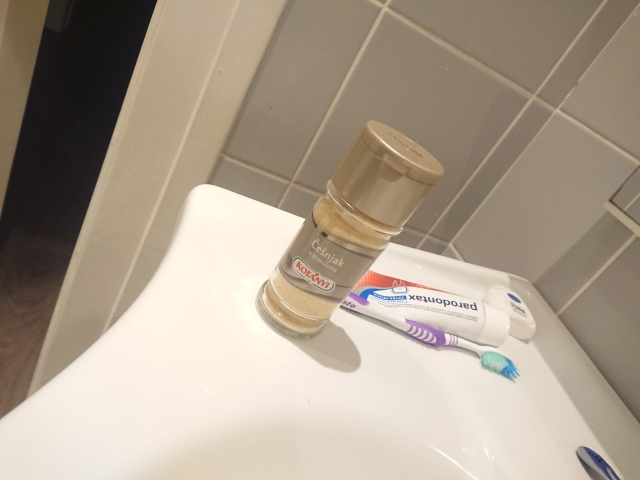Kotanyi Garlic Granules 70g: (252, 117, 447, 342)
